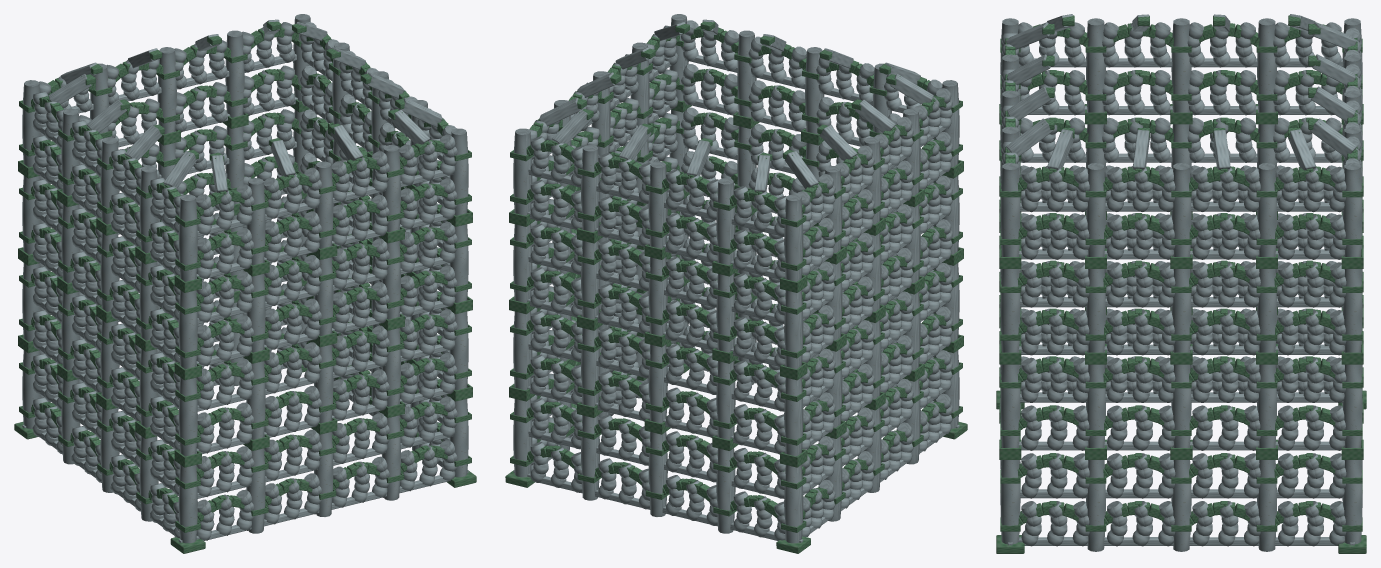
The picture shows the model from 3 angles, left to right: view 1: azimuth 30°, elevation 25°; view 2: azimuth 150°, elevation 25°; view 3: azimuth 270°, elevation 25°; orthographic projection. The views are drawn at different scales.
Parts seen in each view (by area): view 1: Tier 3 side 0 post 0, Tier 3 side 2 post 1, Tier 0 side 0 post 0, Tier 2 side 0 post 0, Tier 1 side 0 post 0, Tier 3 side 2 post 2, Tier 3 side 0 post 1, Tier 3 side 0 post 2, Tier 3 side 1 post 0, Tier 3 side 0 post 3, Tier 0 side 0 post 1, Tier 0 side 0 post 2 (+37 smaller); view 2: Tier 3 side 3 post 0, Tier 3 side 2 post 0, Tier 3 side 2 post 3, Tier 3 side 2 post 2, Tier 3 side 2 post 1, Tier 0 side 3 post 0, Tier 2 side 3 post 0, Tier 1 side 3 post 0, Tier 0 side 2 post 3, Tier 0 side 2 post 2, Tier 0 side 2 post 1, Tier 0 side 2 post 0 (+38 smaller); view 3: Tier 3 side 1 post 0, Tier 3 side 2 post 0, Tier 3 side 3 post 2, Tier 3 side 3 post 1, Tier 3 side 3 post 3, Tier 3 side 1 post 2, Tier 3 side 1 post 1, Tier 3 side 1 post 3, Tier 0 side 1 post 2, Tier 0 side 1 post 0, Tier 1 side 1 post 0, Tier 2 side 1 post 0 (+26 smaller).
Part boxes in pixels (x1,y1,x2,y2): Tier 3 side 0 post 0: (178,194,197,281); Tier 3 side 2 post 1: (225,30,244,117); Tier 0 side 0 post 0: (178,464,197,543); Tier 2 side 0 post 0: (178,290,197,369); Tier 1 side 0 post 0: (178,377,197,456); Tier 3 side 2 post 2: (157,47,176,134); Tier 3 side 0 post 1: (246,178,265,265); Tier 3 side 0 post 2: (314,161,333,248); Tier 3 side 1 post 0: (449,128,468,215); Tier 3 side 0 post 3: (381,145,400,232); Tier 0 side 0 post 1: (246,448,265,533); Tier 0 side 0 post 2: (314,432,333,516); Tier 3 side 3 post 0: (784,194,803,281); Tier 3 side 2 post 0: (513,128,532,215); Tier 3 side 2 post 3: (716,178,735,265); Tier 3 side 2 post 2: (648,161,667,248); Tier 3 side 2 post 1: (581,145,599,232); Tier 0 side 3 post 0: (784,464,803,543); Tier 2 side 3 post 0: (784,290,803,369); Tier 1 side 3 post 0: (784,377,803,456); Tier 0 side 2 post 3: (716,448,735,533); Tier 0 side 2 post 2: (648,432,667,516); Tier 0 side 2 post 1: (581,415,599,500); Tier 0 side 2 post 0: (513,398,532,477); Tier 3 side 1 post 0: (1000,163,1020,256); Tier 3 side 2 post 0: (1342,163,1362,256); Tier 3 side 3 post 2: (1171,18,1191,112); Tier 3 side 3 post 1: (1257,18,1276,112); Tier 3 side 3 post 3: (1086,18,1105,112); Tier 3 side 1 post 2: (1171,163,1191,256); Tier 3 side 1 post 1: (1086,163,1105,256); Tier 3 side 1 post 3: (1257,163,1276,256); Tier 0 side 1 post 2: (1171,460,1191,551); Tier 0 side 1 post 0: (1000,460,1020,544); Tier 1 side 1 post 0: (1000,364,1020,447); Tier 2 side 1 post 0: (1000,269,1020,352).
Bounding box in the file's own units: 1.95 × 2.34 × 1.95.
Materials: 2 (2 with a texture image).
